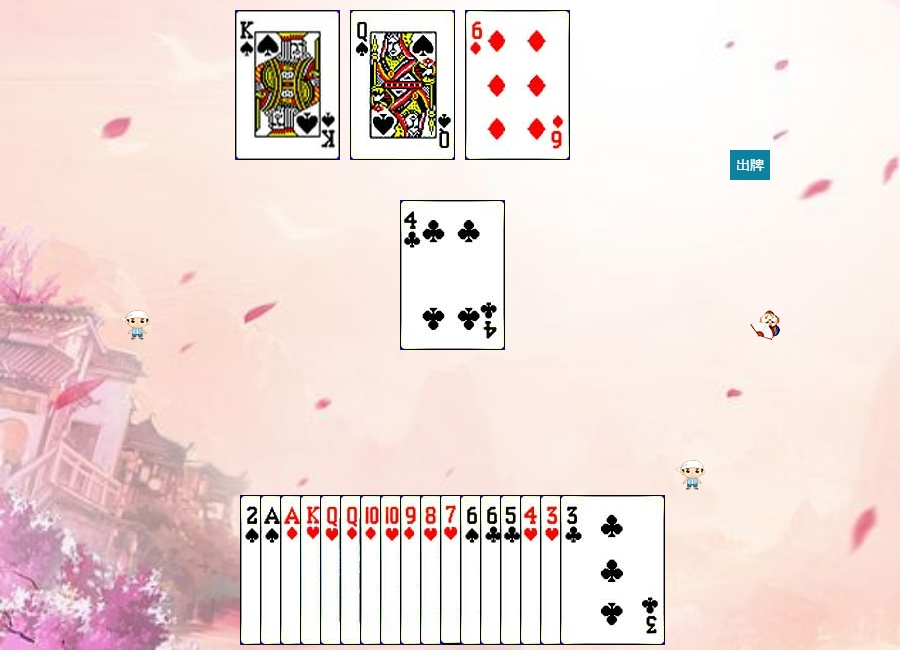10~1: (360, 495, 465, 645)
10~3: (380, 495, 485, 645)
12~1: (340, 495, 445, 645)
12~3: (320, 495, 425, 645)
12~4: (350, 10, 455, 160)
13~3: (300, 495, 405, 645)
13~4: (235, 10, 340, 160)
14~1: (280, 495, 385, 645)
14~4: (260, 495, 365, 645)
15~4: (240, 495, 345, 645)
3~2: (560, 495, 665, 645)
3~3: (540, 495, 645, 645)
4~2: (400, 200, 505, 350)
4~3: (520, 495, 625, 645)
5~2: (500, 495, 605, 645)
6~1: (465, 10, 570, 160)
6~2: (480, 495, 585, 645)
6~4: (460, 495, 565, 645)
7~3: (440, 495, 545, 645)
8~3: (420, 495, 525, 645)
9~1: (400, 495, 505, 645)
